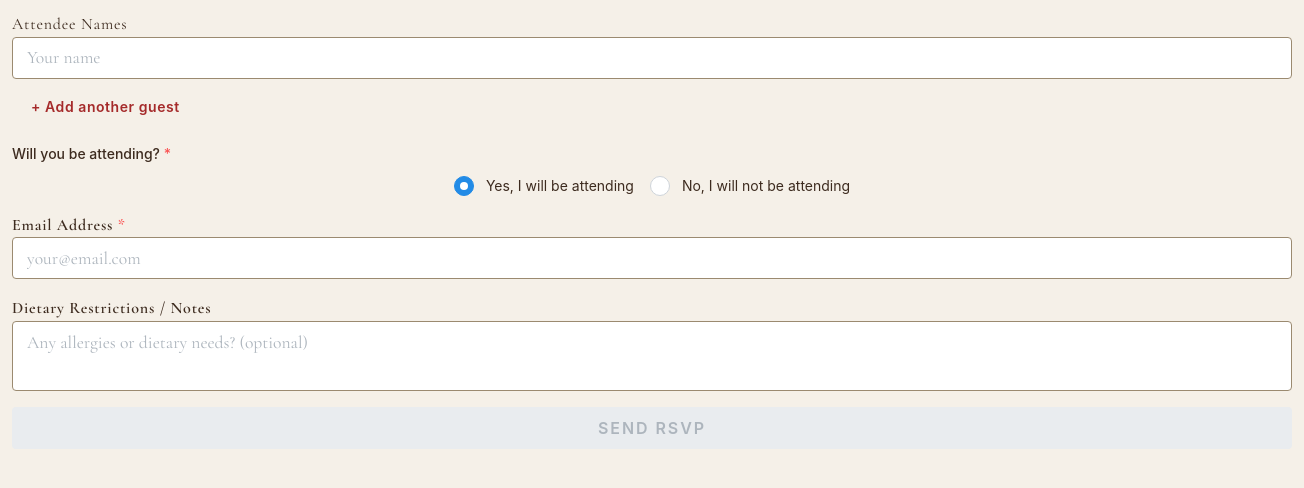
RsvpForm › validation › shows an error when attending but email is missing
This screenshot has width=1304, height=488.
Type "Jon Bernard" into the field with placeholder "Your name" at (652, 58), box top-left (12, 37), bottom-right (1292, 79)
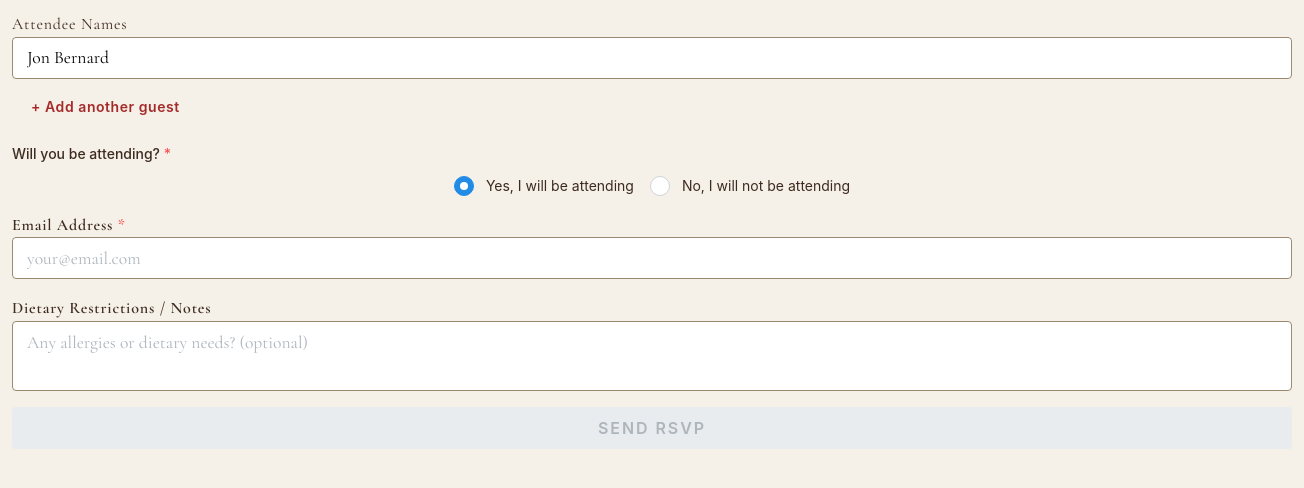
Submit the form named "send rsvp"
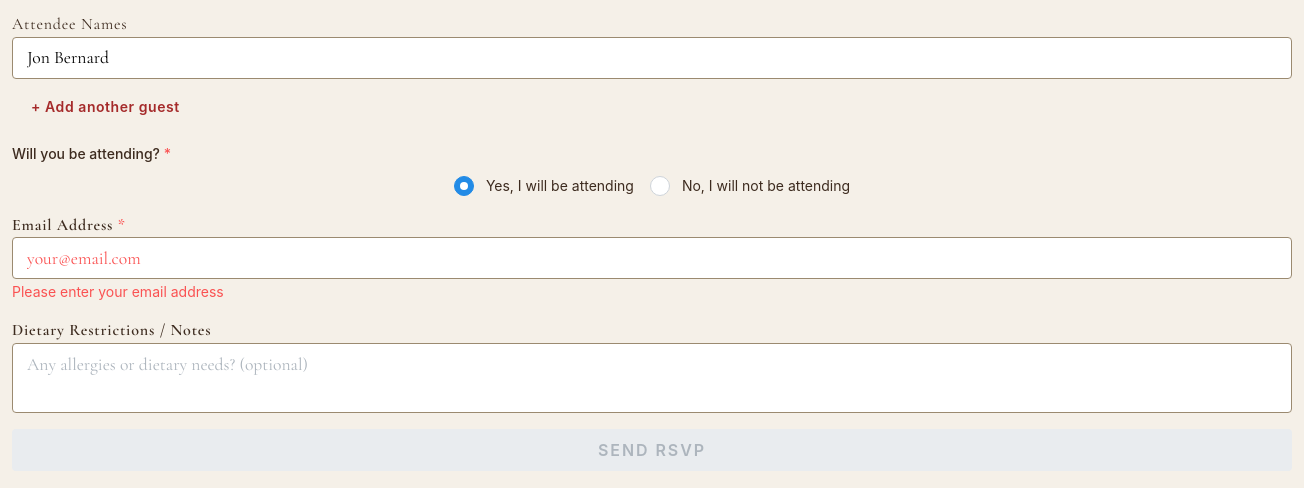
expect the text "Please enter your email address" is shown: met, box top-left (12, 283), bottom-right (224, 300)
